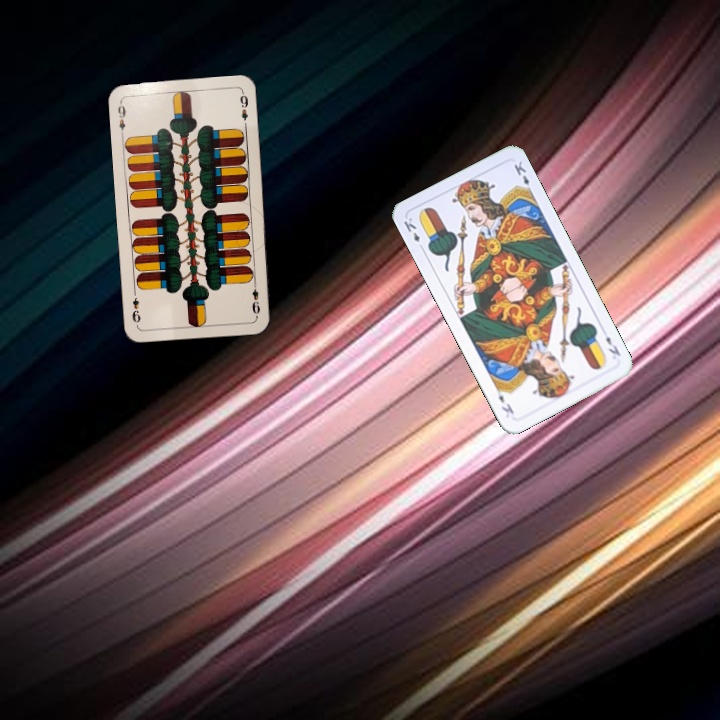E9: (248, 278, 263, 318), (114, 98, 128, 139)
EK: (400, 213, 427, 253), (602, 332, 623, 358)
